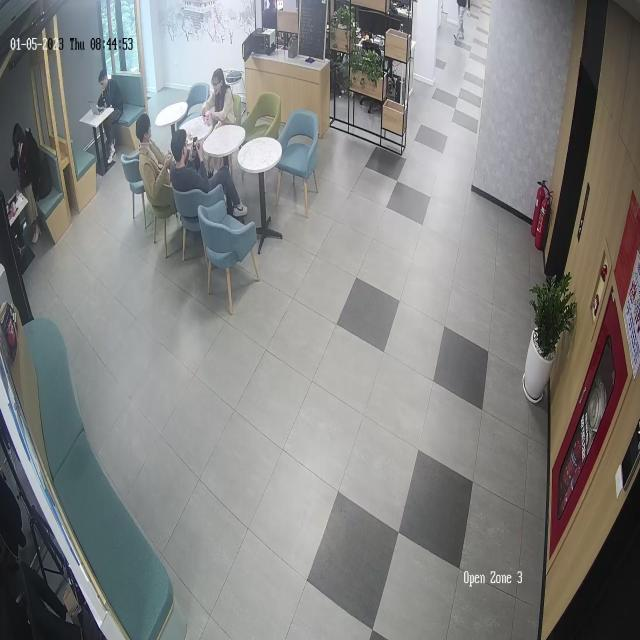person: (168, 130, 248, 222), (7, 121, 47, 245), (136, 114, 174, 208), (97, 66, 126, 162), (202, 67, 235, 127)
